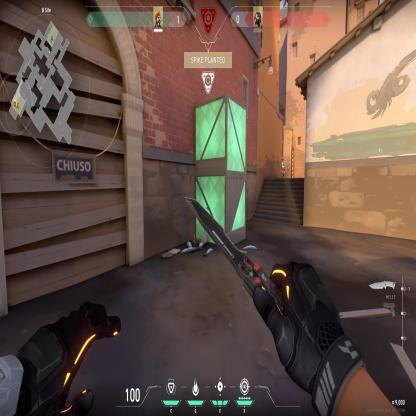enemy: (282, 154, 286, 178)
